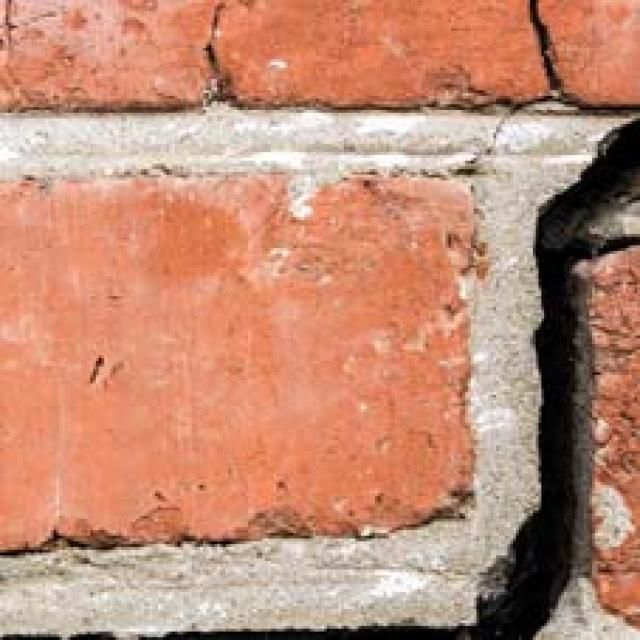Crack: (417, 6, 640, 640)
